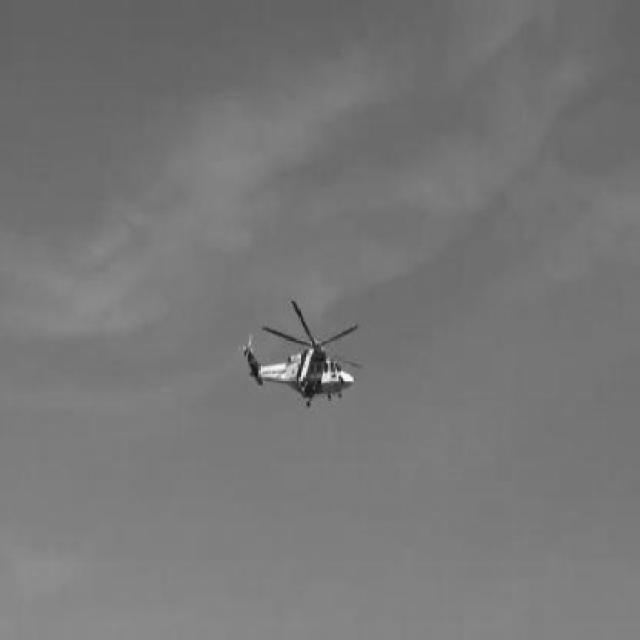helikopter: (243, 298, 362, 404)
